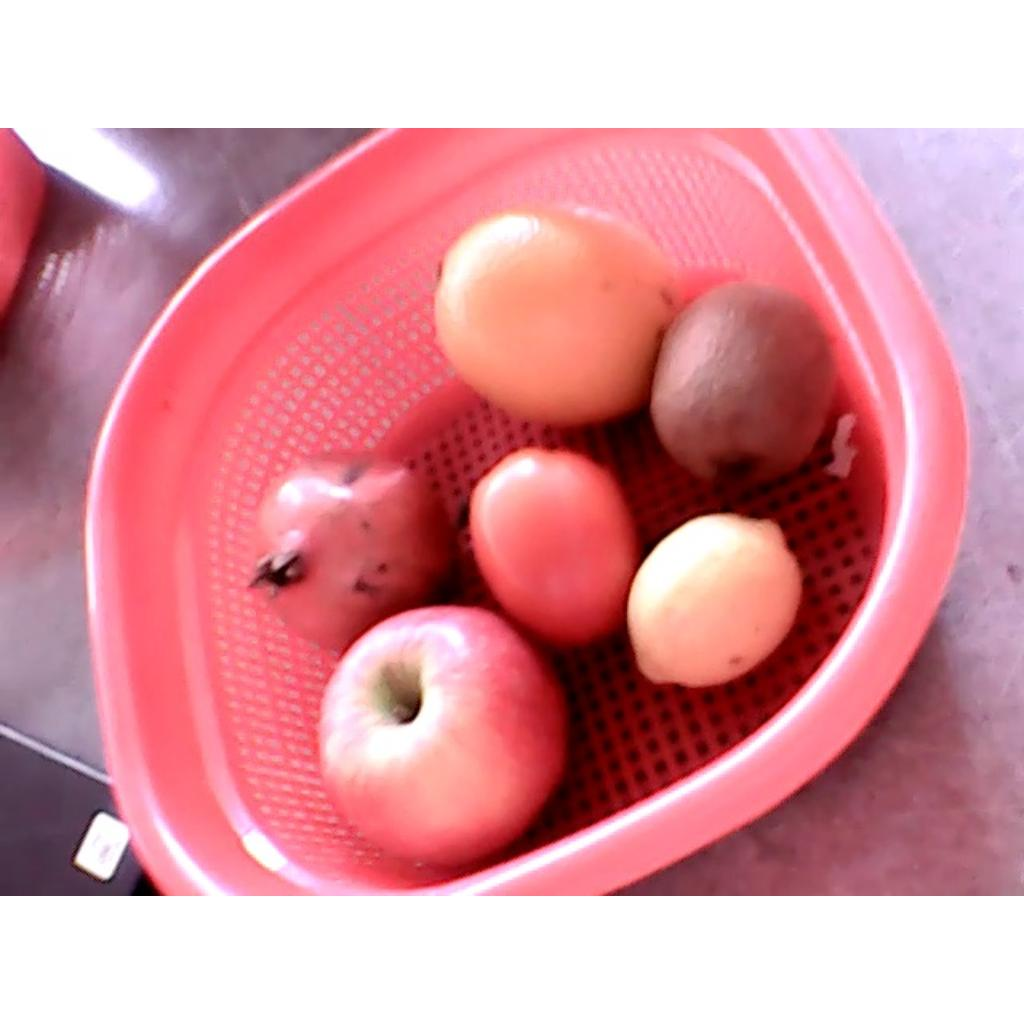apple: (316, 604, 570, 870)
kiwi: (651, 280, 836, 486)
lemon: (625, 513, 800, 687)
orange: (434, 207, 674, 421)
pomegranate: (244, 454, 448, 651)
tomato: (468, 447, 637, 644)
